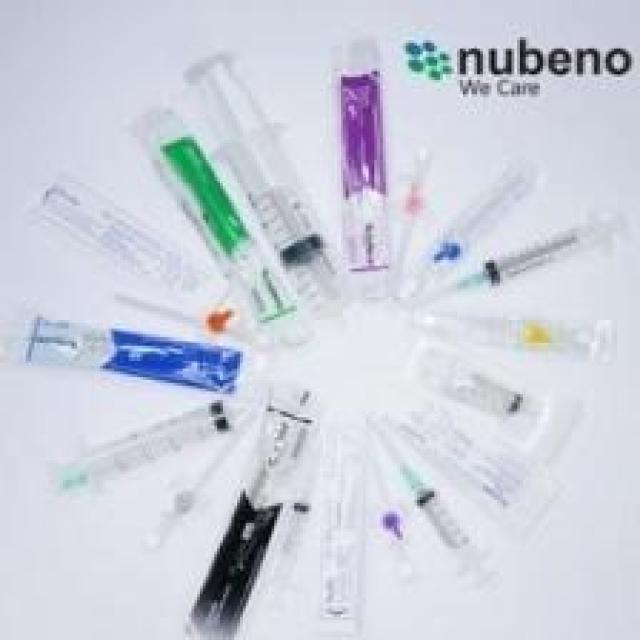syringe: (128, 60, 340, 348), (425, 125, 624, 361), (308, 411, 494, 640), (33, 382, 254, 543), (379, 157, 426, 337)
